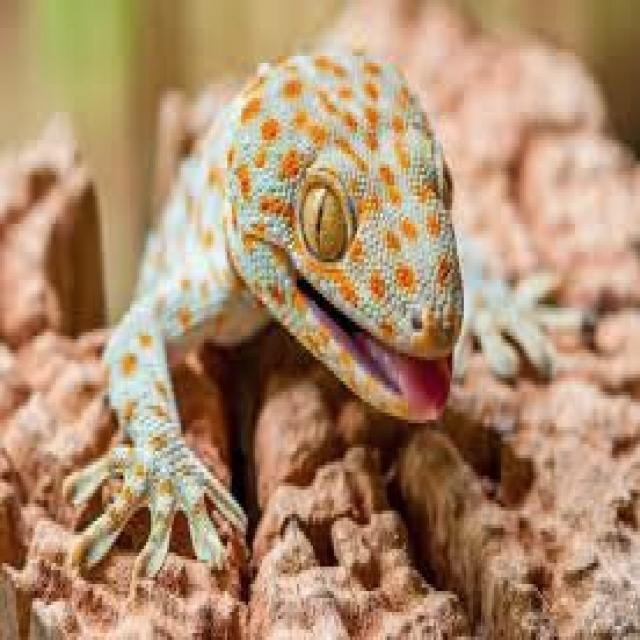lizard: (70, 52, 589, 574)
